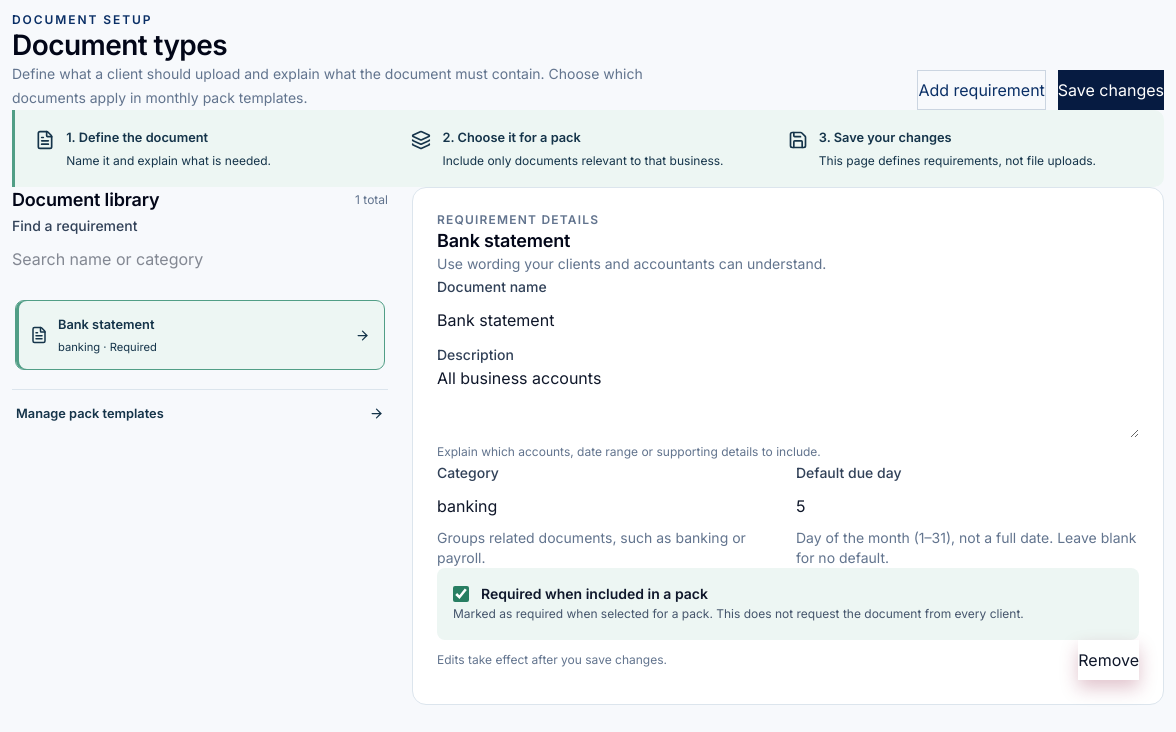
Test: admin required documents › retains edits when saving fails
Replace the text in the field showing "Bank statement" with "Updated requirement" at (788, 320), box [437, 298, 1139, 342]
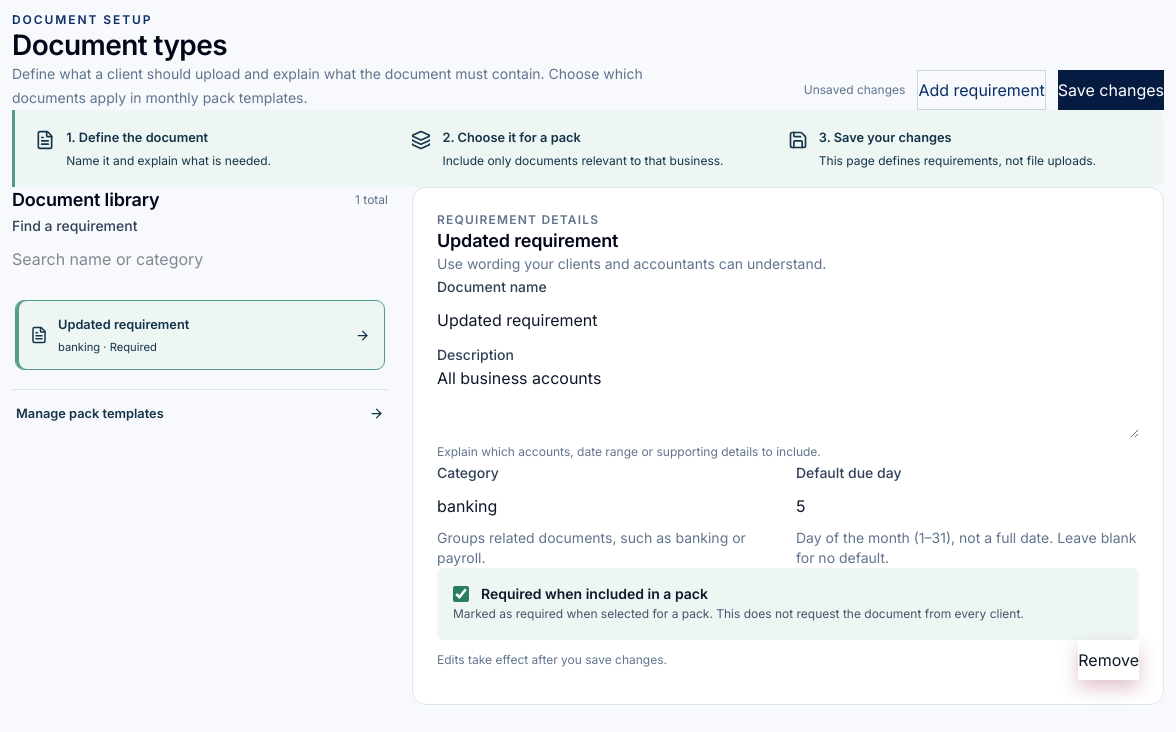
Click the button "Save changes" at (1111, 90), box [1058, 70, 1164, 110]
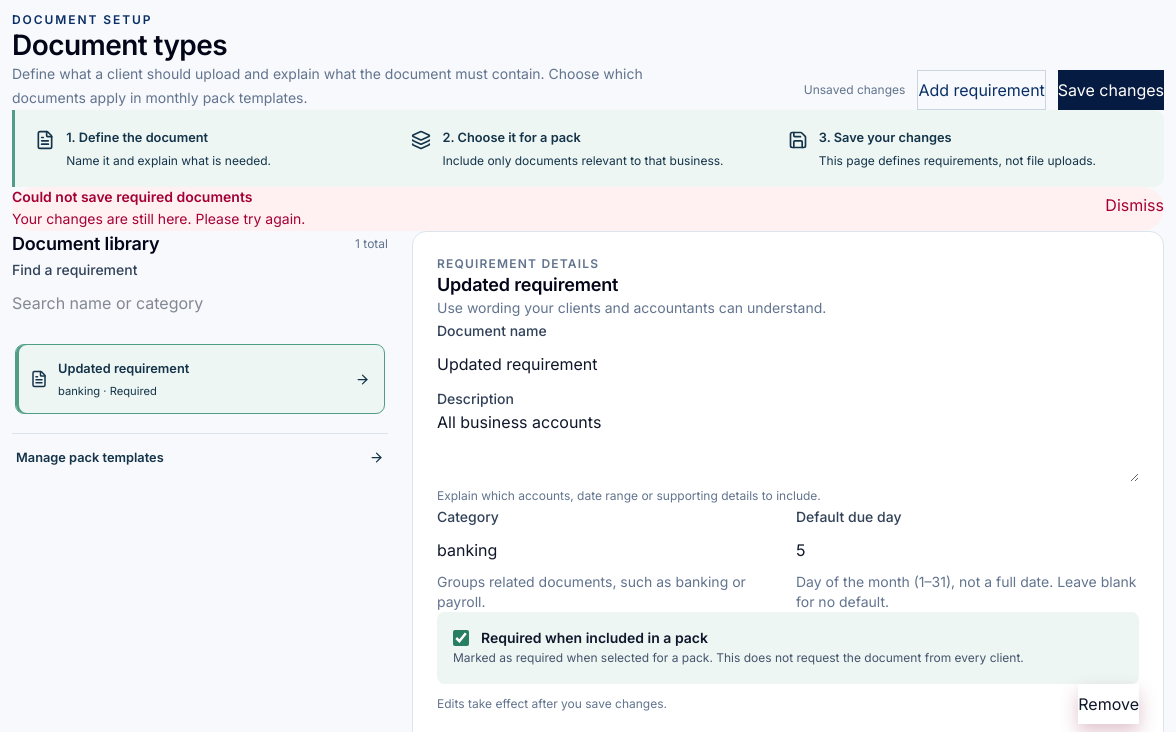
expect the text "Could not save required documents" is shown: met, box [12, 188, 252, 205]
